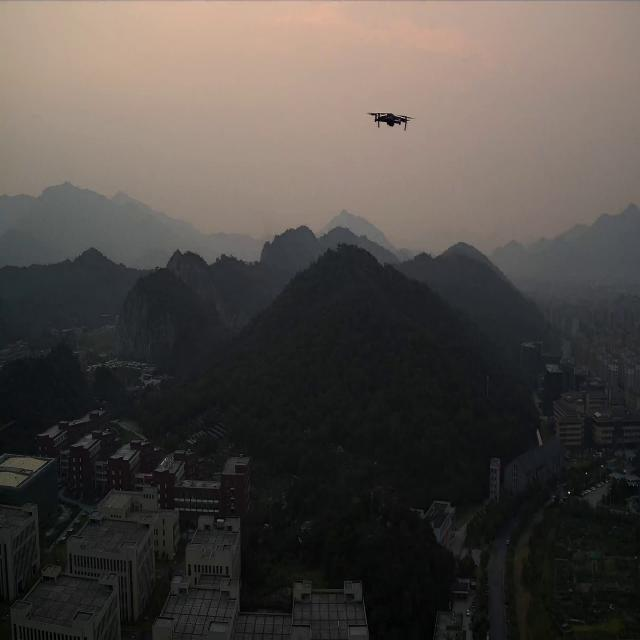UAV: (368, 108, 413, 133)
